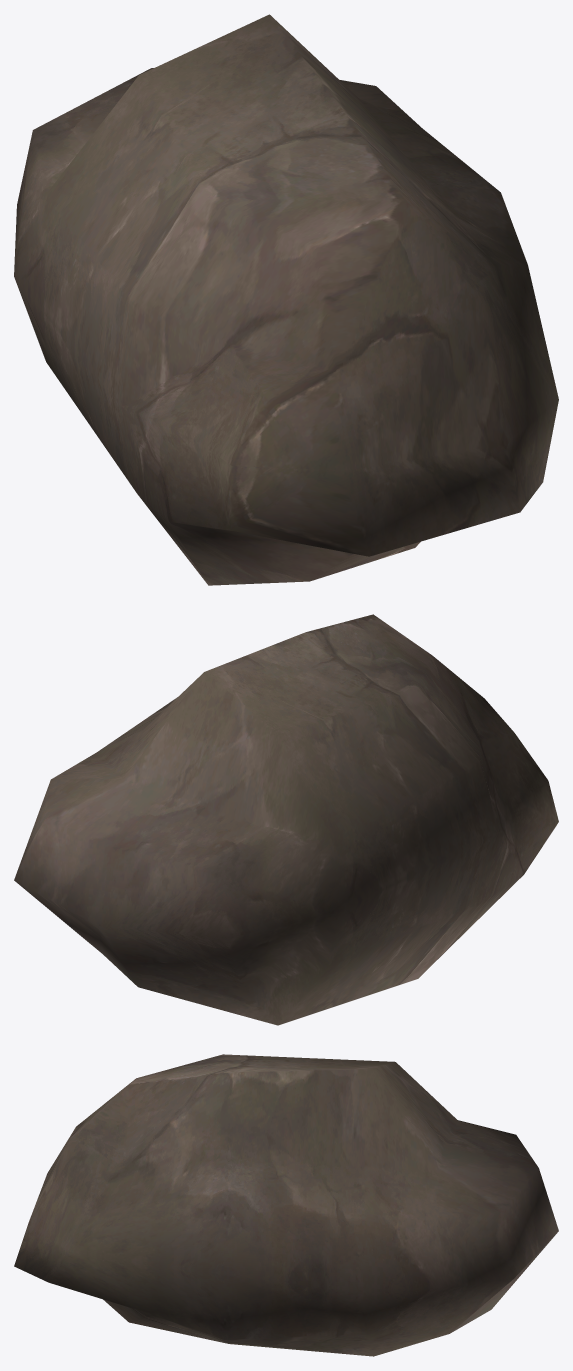
The model's file is Rock_01.obj.
3 renders of one model, top to bottom at view 1: azimuth 30°, elevation 25°; view 2: azimuth 150°, elevation 25°; view 3: azimuth 270°, elevation 25°, orthographic. The views are drawn at different scales.
Visible parts, largest first — view 1: world_expansion06_doodads_suramar_7sr_cragrock_a01.m2_Geoset_000; view 2: world_expansion06_doodads_suramar_7sr_cragrock_a01.m2_Geoset_000; view 3: world_expansion06_doodads_suramar_7sr_cragrock_a01.m2_Geoset_000.
Part boxes in pixels (box(x1,y1,x2,y2)): world_expansion06_doodads_suramar_7sr_cragrock_a01.m2_Geoset_000: box(14, 14, 558, 585); world_expansion06_doodads_suramar_7sr_cragrock_a01.m2_Geoset_000: box(14, 614, 558, 1025); world_expansion06_doodads_suramar_7sr_cragrock_a01.m2_Geoset_000: box(14, 1054, 558, 1356).
Bounding box in the file's own units: 11.5 × 10.77 × 17.59.
Materials: 1 (1 with a texture image).
